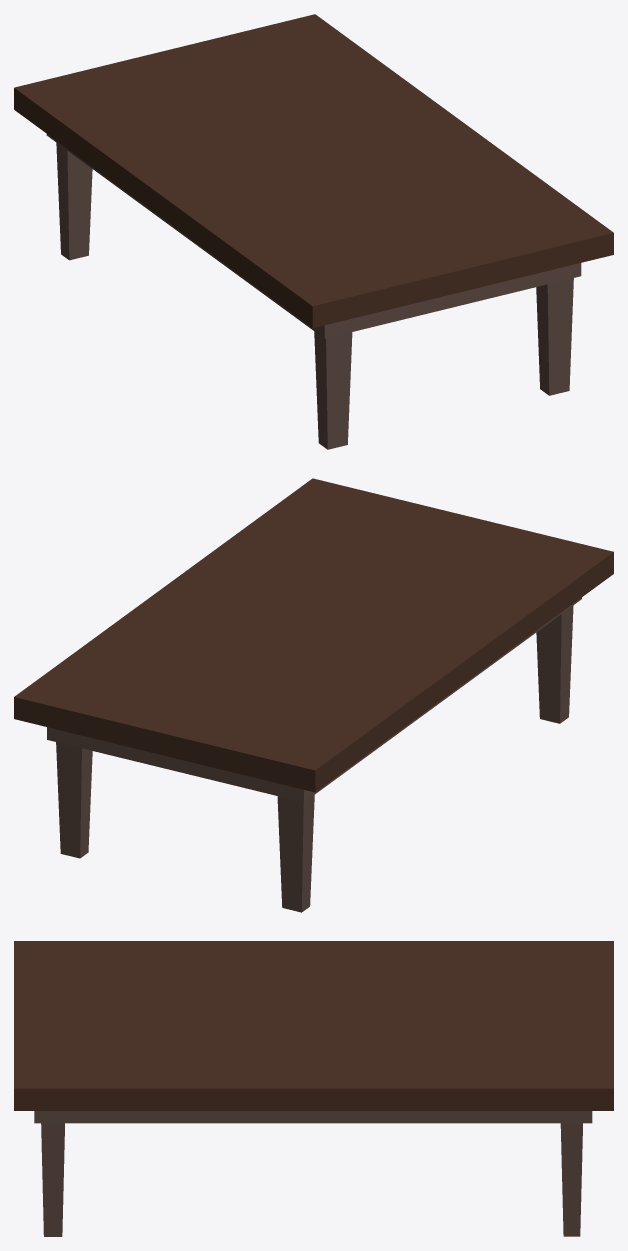
Rendered from Couchtisch.fbx.
The picture shows the model from 3 angles, top to bottom: view 1: azimuth 30°, elevation 25°; view 2: azimuth 150°, elevation 25°; view 3: azimuth 270°, elevation 25°; orthographic projection.
Visible parts, largest first — view 1: pCube1; view 2: pCube1; view 3: pCube1.
Boxes of the visible parts, x1,y1,x2,y2 form: pCube1: (14, 14, 613, 449); pCube1: (14, 478, 613, 912); pCube1: (14, 941, 613, 1236).
Bounding box in the file's own units: 257 × 132 × 441.
